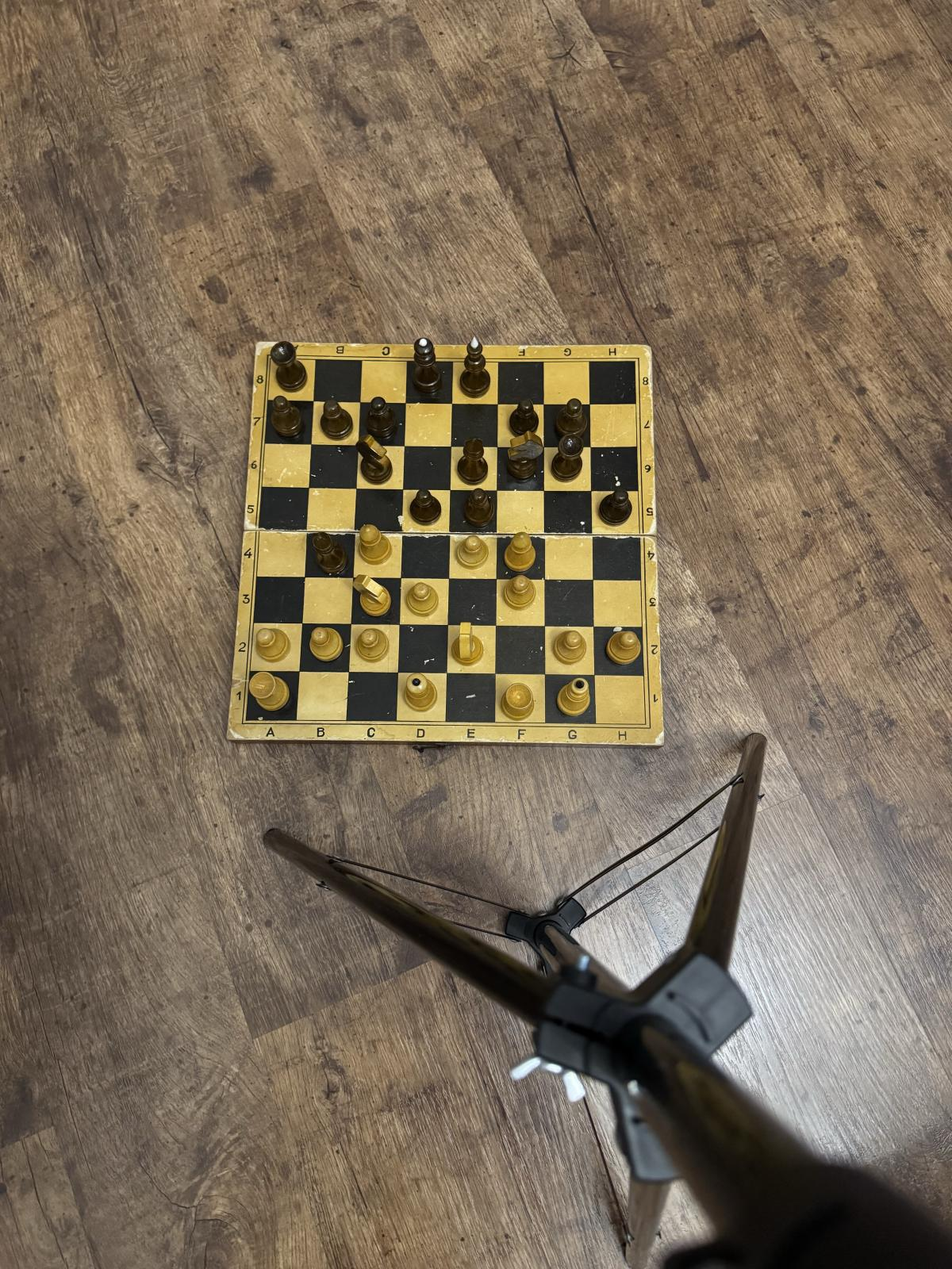Chess-Board: (246, 359, 646, 724)
